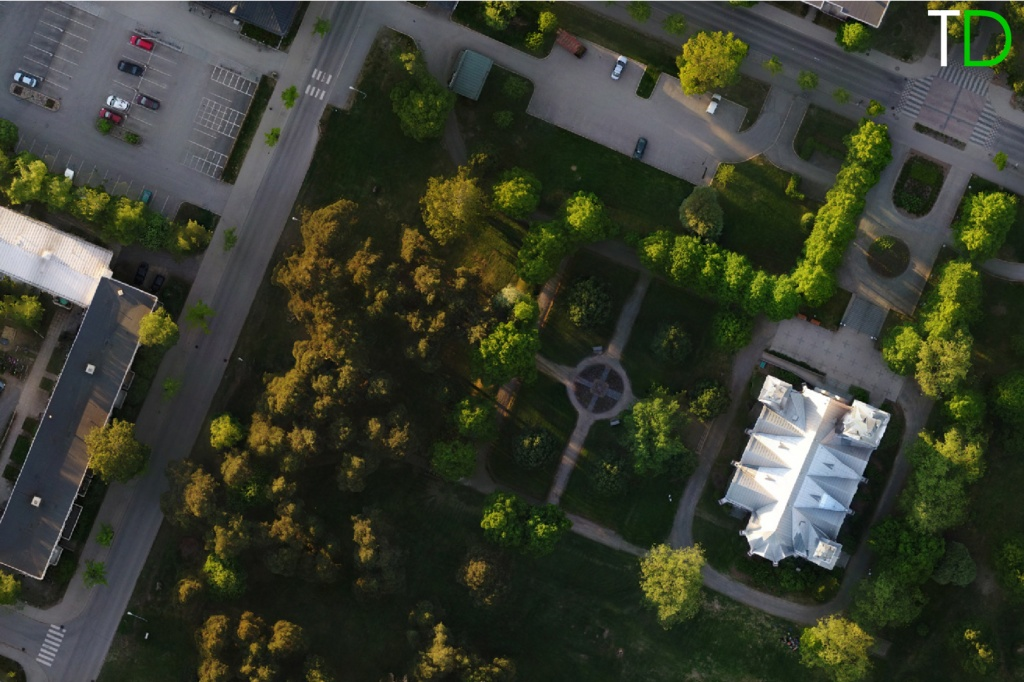build: (1, 279, 162, 581), (718, 361, 892, 573), (1, 204, 116, 315), (195, 1, 314, 39), (795, 1, 911, 36)
